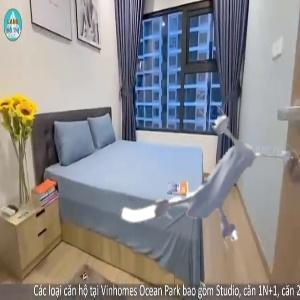drone: (132, 99, 289, 256)
